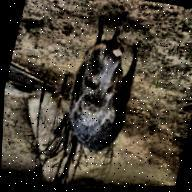boar: (52, 9, 161, 163)
